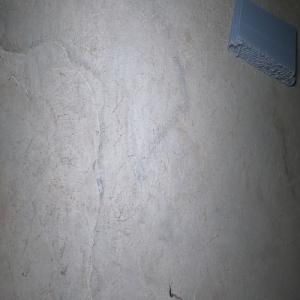PlasticPart: (226, 0, 297, 87)
